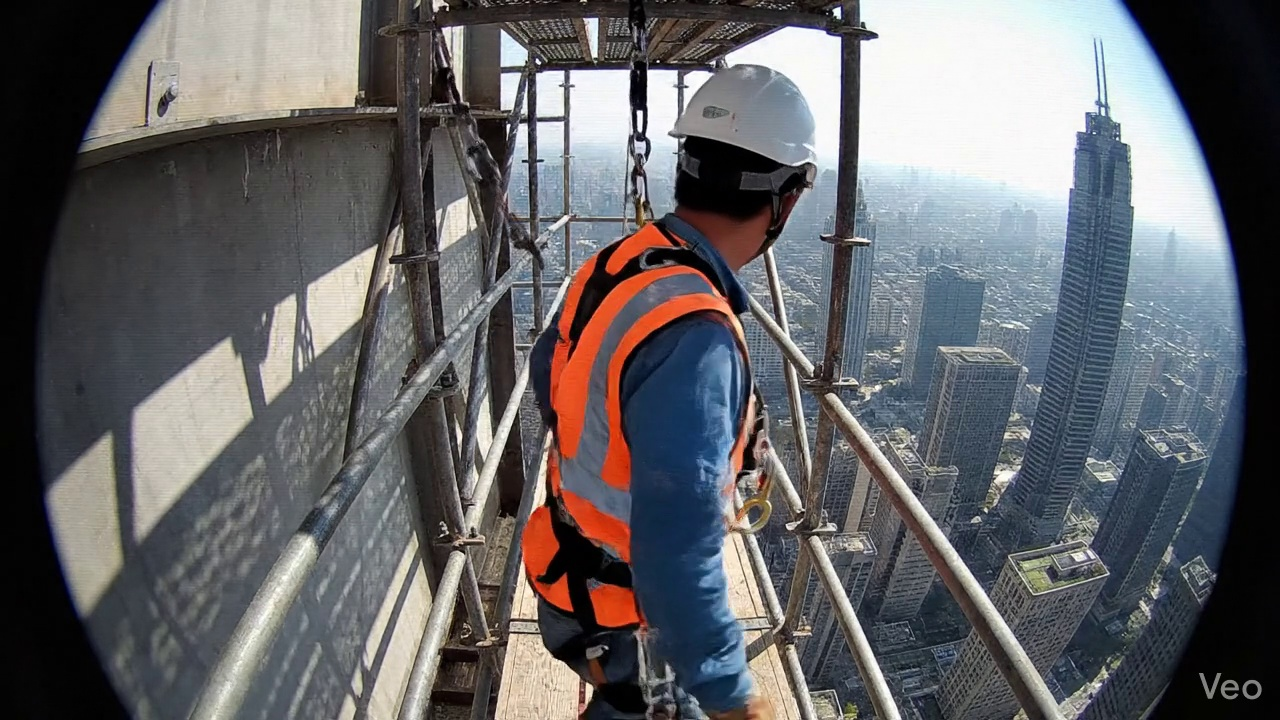person: (523, 64, 816, 719), (738, 518, 764, 528), (761, 512, 765, 514), (766, 509, 767, 511)
